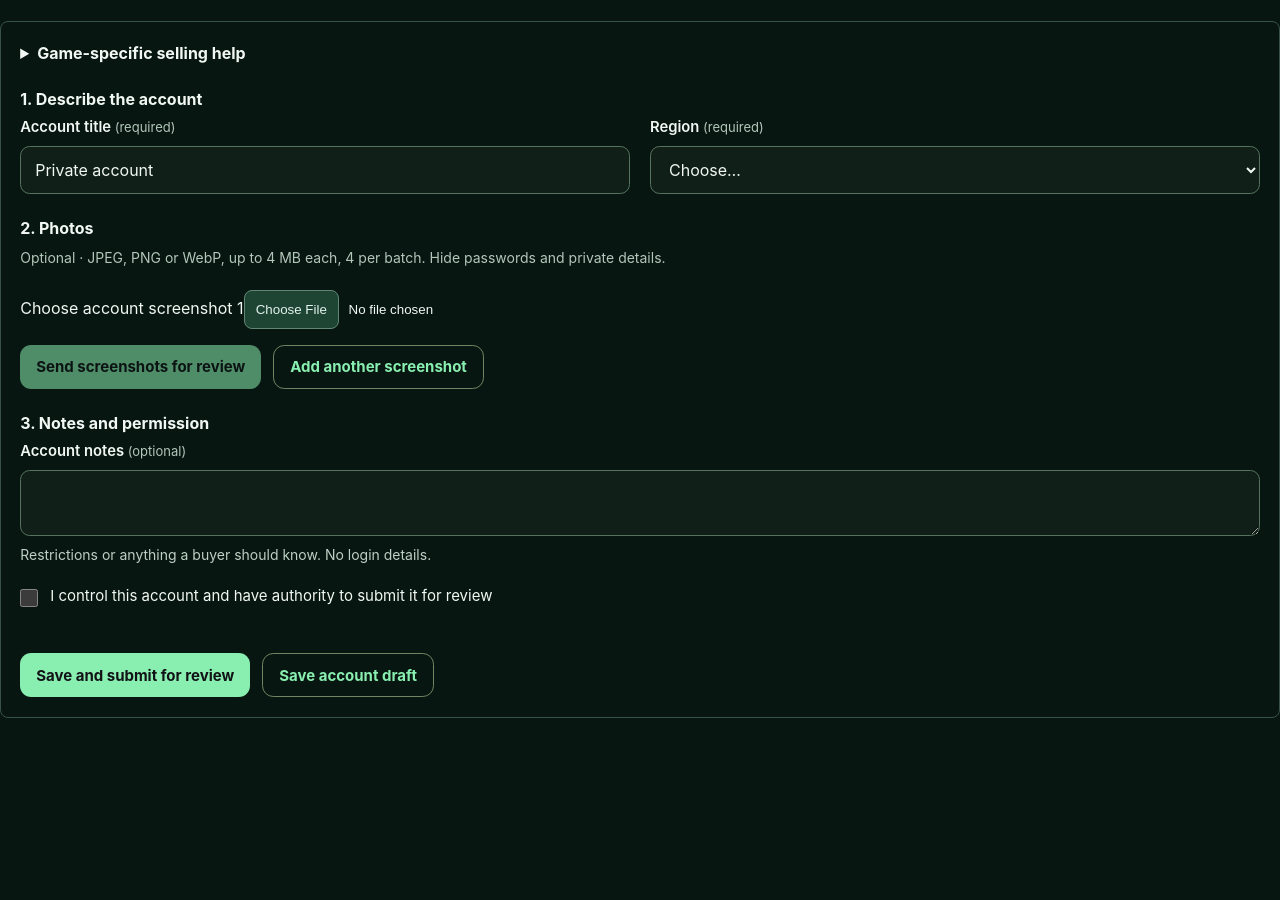
Test case: retains unsaved input on a conflict and never retries with an invented version
Type "Private control explanation" into the text box labelled "Account notes (optional)" at (640, 503), box left=20, top=470, right=1260, bottom=536
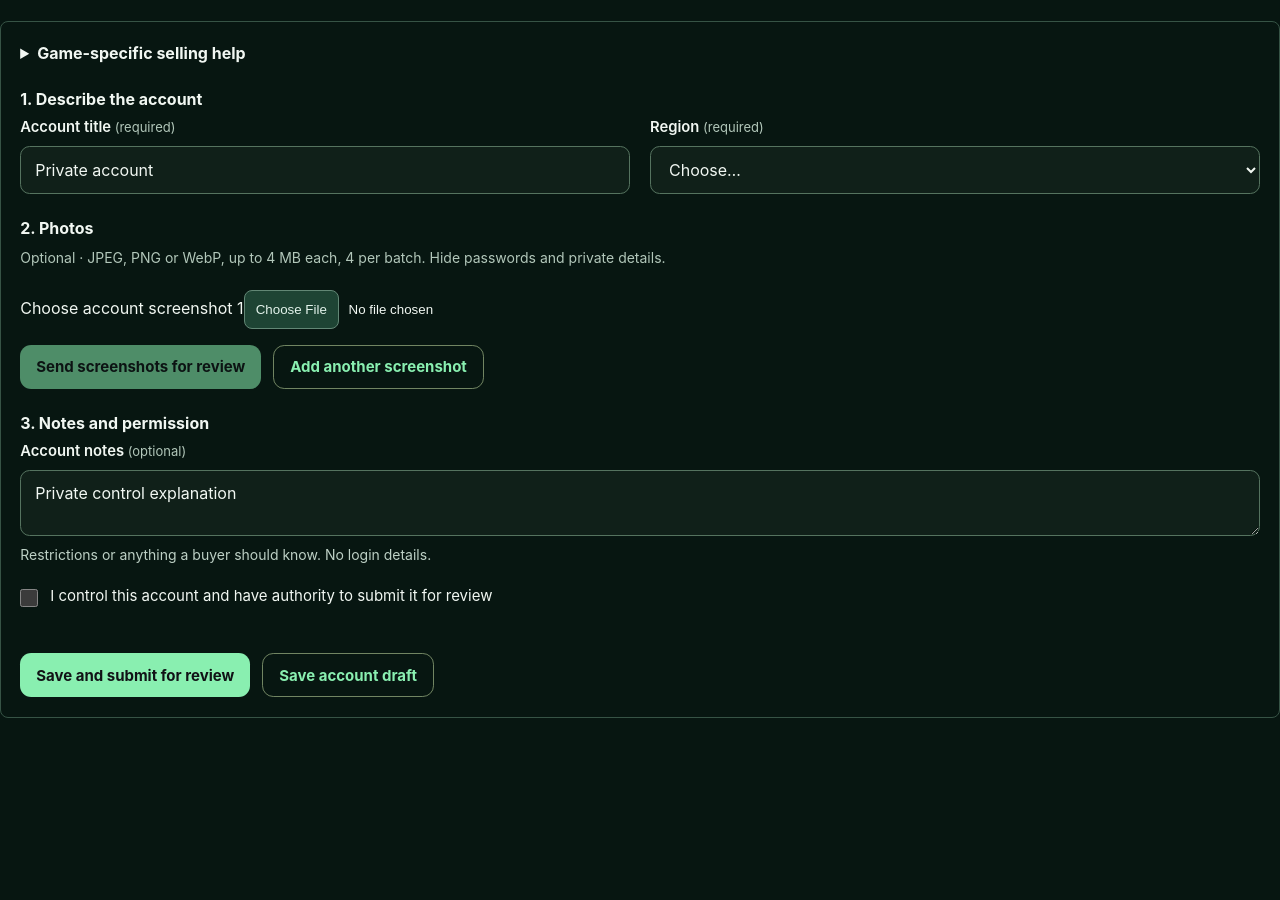
Click the button "Save account draft" at (348, 675), box left=262, top=653, right=434, bottom=697
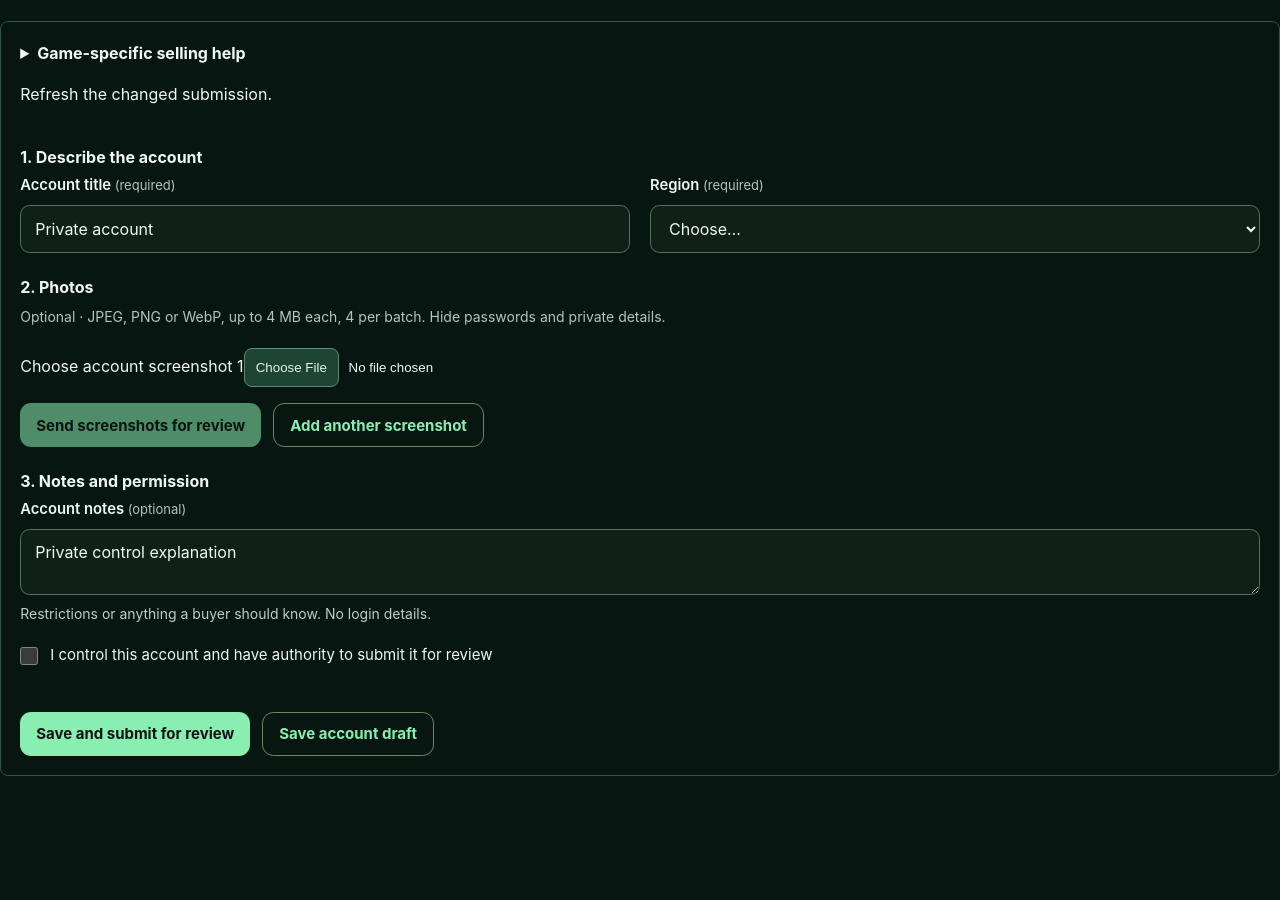
Check: the message reads "Refresh the changed submission.", box left=20, top=84, right=272, bottom=104
